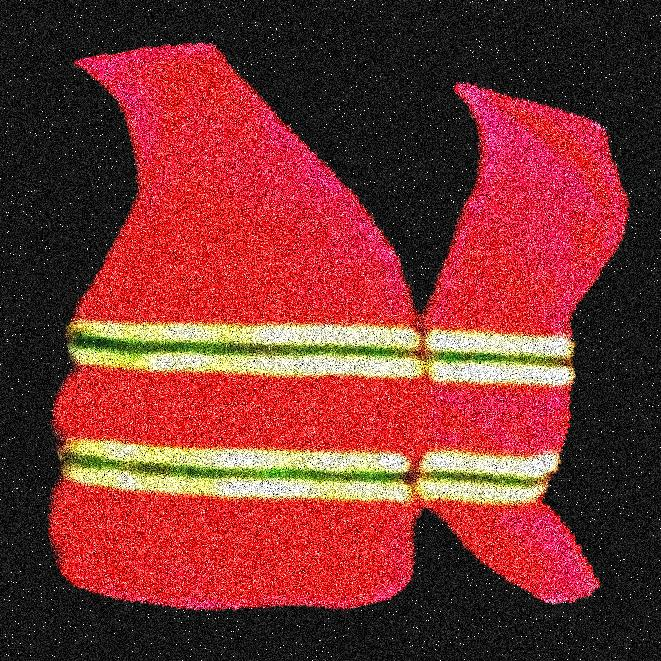Colete: (129, 0, 308, 660)
